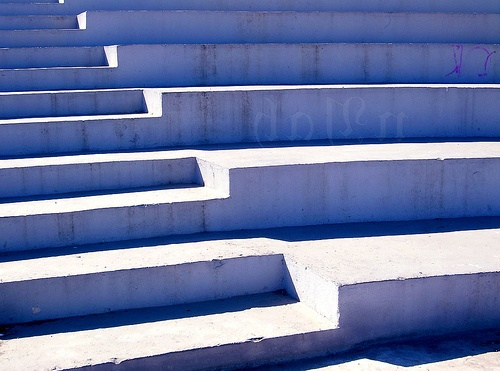stairs_up: (1, 1, 499, 371)
